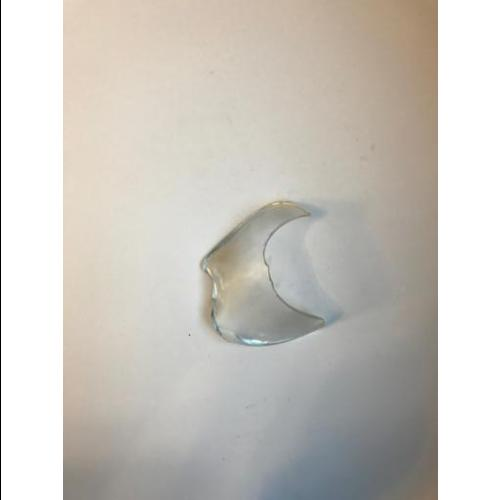glass: (205, 205, 309, 353)
